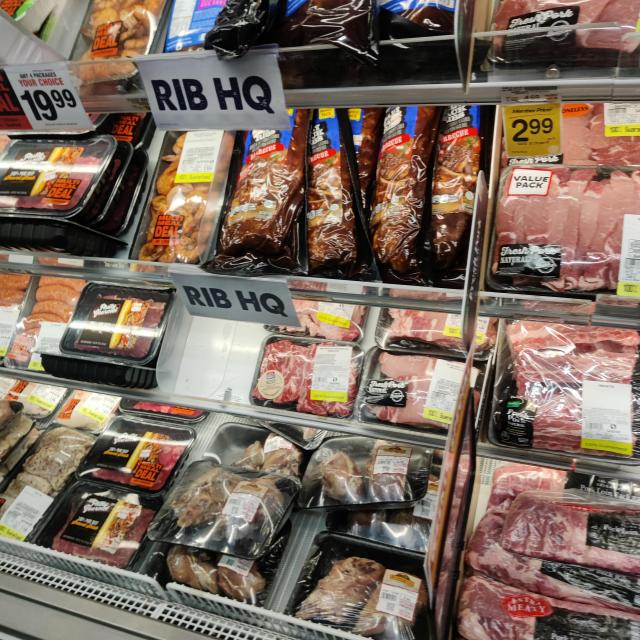Meat: (491, 158, 640, 298), (468, 478, 640, 599), (223, 107, 314, 277), (121, 118, 225, 266), (497, 342, 640, 448), (299, 538, 430, 640), (163, 458, 295, 556), (367, 107, 438, 284), (305, 430, 441, 516), (245, 335, 358, 423), (354, 342, 468, 427), (429, 104, 482, 280), (55, 282, 168, 357), (50, 483, 154, 563), (9, 269, 80, 379), (82, 417, 184, 489)
